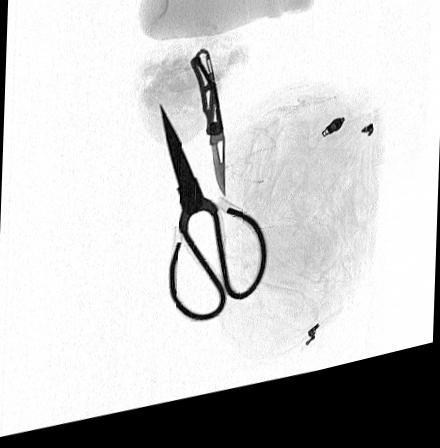Knife: (188, 58, 225, 208)
Scissors: (159, 110, 266, 335)
